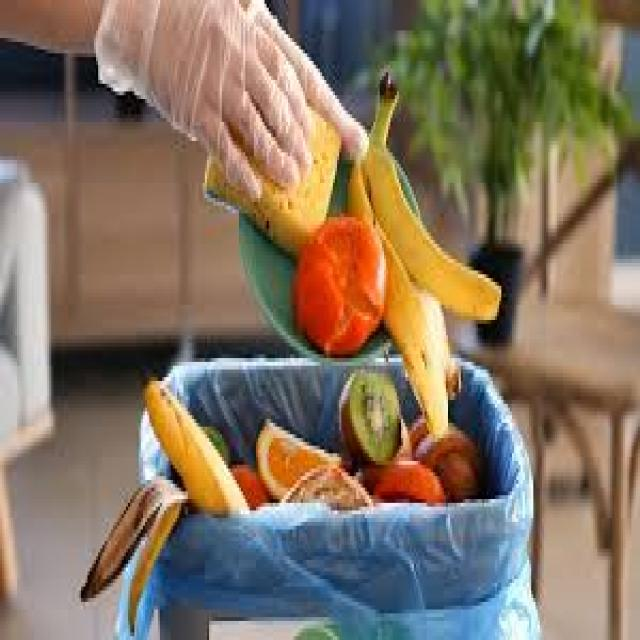Organik: (76, 133, 514, 622)
